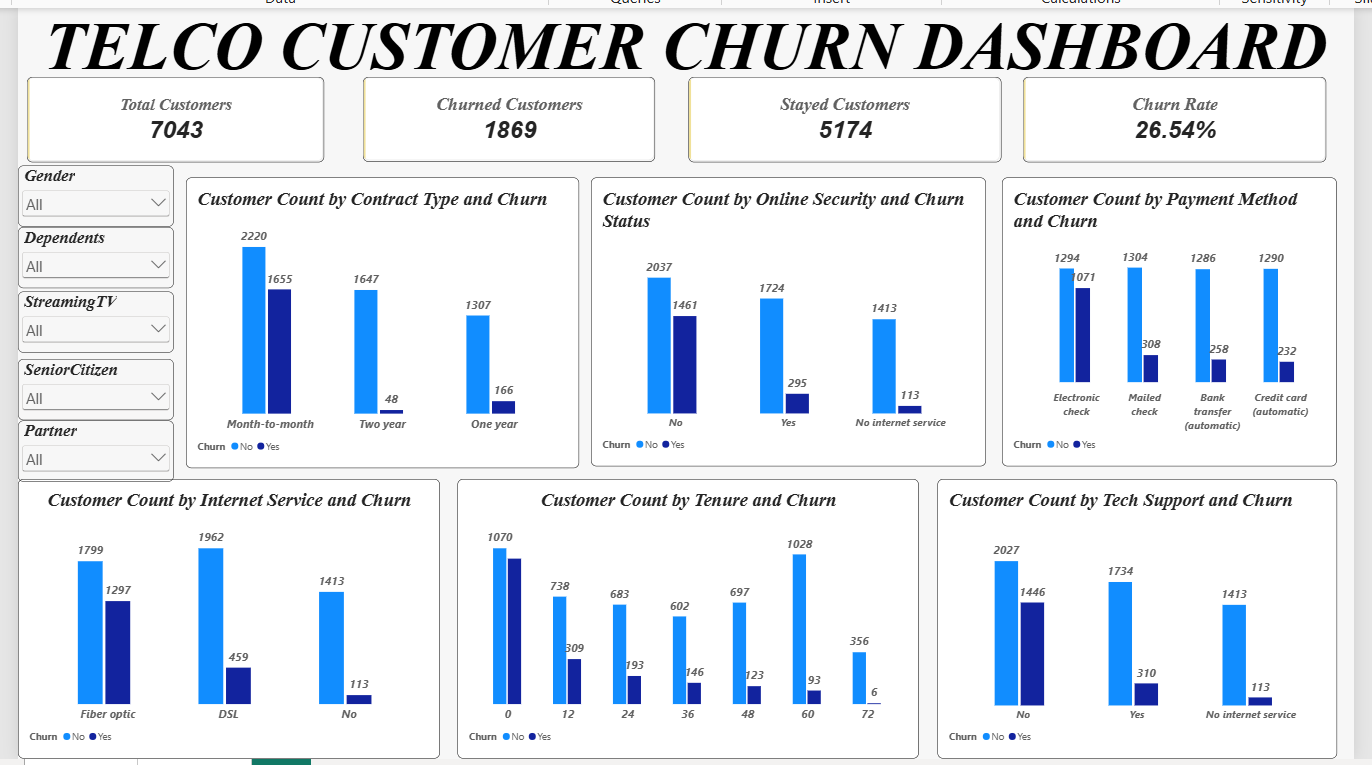

This screenshot's page, from the dashboard's own definition file:
{"tool":"powerbi","page":{"name":"Page 1","canvas":[1920,1080],"ordinal":0},"visuals":[{"type":"cardVisual","title":"Total Customers","fields":{"Data":["Count(Telco_Churn_Cleaned.customerID)"]},"box":[13.6,99.9,427,122.7],"z":0},{"type":"cardVisual","fields":{"Data":["Telco_Churn_Cleaned.Churned Customers"]},"box":[496.1,99.2,420,121.9],"z":1000},{"type":"cardVisual","fields":{"Data":["Telco_Churn_Cleaned.Churn Rate"]},"box":[1444.6,99.9,436.1,122.7],"z":2000},{"type":"cardVisual","title":"Total Customers","fields":{"Data":["Telco_Churn_Cleaned.Stayed Customers"]},"box":[965.3,99.9,449.7,122.7],"z":3000},{"type":"clusteredColumnChart","title":"Customer Count by Contract Type and Churn","fields":{"Category":["Telco_Churn_Cleaned.Contract"],"Series":["Telco_Churn_Cleaned.Churn"],"Y":["CountNonNull(Telco_Churn_Cleaned.customerID)"]},"box":[240.8,243,565.6,417.9],"z":4000},{"type":"clusteredColumnChart","title":"Customer Count by Payment Method and Churn","fields":{"Category":["Telco_Churn_Cleaned.PaymentMethod"],"Series":["Telco_Churn_Cleaned.Churn"],"Y":["CountNonNull(Telco_Churn_Cleaned.customerID)"]},"box":[1415,243,481.5,415.6],"z":5000},{"type":"clusteredColumnChart","title":"Customer Count by Internet Service and Churn","fields":{"Category":["Telco_Churn_Cleaned.InternetService"],"Series":["Telco_Churn_Cleaned.Churn"],"Y":["CountNonNull(Telco_Churn_Cleaned.customerID)"]},"box":[0,676.8,606.4,402],"z":6000},{"type":"clusteredColumnChart","title":"Customer Count by Tech Support and Churn","fields":{"Category":["Telco_Churn_Cleaned.TechSupport"],"Series":["Telco_Churn_Cleaned.Churn"],"Y":["CountNonNull(Telco_Churn_Cleaned.customerID)"]},"box":[1321.9,676.8,574.6,402],"z":8000},{"type":"textbox","box":[0,0,1919.1,124.7],"z":10000},{"type":"clusteredColumnChart","title":"Customer Count by Tenure and Churn","fields":{"Category":["Telco_Churn_Cleaned.tenure (bins)"],"Series":["Telco_Churn_Cleaned.Churn"],"Y":["CountNonNull(Telco_Churn_Cleaned.customerID)"]},"box":[631.4,676.8,663.2,402],"z":11000},{"type":"slicer","fields":{"Values":["Telco_Churn_Cleaned.gender"]},"box":[0,226.8,223.9,87.9],"z":12000},{"type":"slicer","fields":{"Values":["Telco_Churn_Cleaned.Partner"]},"box":[0,592.8,223.9,87.9],"z":13000},{"type":"slicer","fields":{"Values":["Telco_Churn_Cleaned.Dependents"]},"box":[0,314.6,223.9,87.9],"z":14000},{"type":"slicer","fields":{"Values":["Telco_Churn_Cleaned.StreamingTV"]},"box":[0,408.2,223.9,87.9],"z":15000},{"type":"slicer","fields":{"Values":["Telco_Churn_Cleaned.SeniorCitizen"]},"box":[0,504.6,223.9,87.9],"z":16000},{"type":"clusteredColumnChart","title":"Customer Count by Online Security and Churn Status","fields":{"Category":["Telco_Churn_Cleaned.OnlineSecurity"],"Series":["Telco_Churn_Cleaned.Churn"],"Y":["CountNonNull(Telco_Churn_Cleaned.customerID)"]},"box":[824.5,243,567.8,415.6],"z":17000}]}

Visuals, with their boxes on the page's 1920x1080 design canvas (x1, y1, x2, y2). These are canvas units, not pixel positions in the 1372x765 screenshot, which may show the page scaled, cropped or inside an application window:
"Total Customers" cardVisual: x1=14 y1=100 x2=441 y2=223
cardVisual - Telco_Churn_Cleaned.Churned Customers: x1=496 y1=99 x2=916 y2=221
cardVisual - Telco_Churn_Cleaned.Churn Rate: x1=1445 y1=100 x2=1881 y2=223
"Total Customers" cardVisual: x1=965 y1=100 x2=1415 y2=223
"Customer Count by Contract Type and Churn" clusteredColumnChart: x1=241 y1=243 x2=806 y2=661
"Customer Count by Payment Method and Churn" clusteredColumnChart: x1=1415 y1=243 x2=1896 y2=659
"Customer Count by Internet Service and Churn" clusteredColumnChart: x1=0 y1=677 x2=606 y2=1079
"Customer Count by Tech Support and Churn" clusteredColumnChart: x1=1322 y1=677 x2=1896 y2=1079
textbox: x1=0 y1=0 x2=1919 y2=125
"Customer Count by Tenure and Churn" clusteredColumnChart: x1=631 y1=677 x2=1295 y2=1079
slicer - Telco_Churn_Cleaned.gender: x1=0 y1=227 x2=224 y2=315
slicer - Telco_Churn_Cleaned.Partner: x1=0 y1=593 x2=224 y2=681
slicer - Telco_Churn_Cleaned.Dependents: x1=0 y1=315 x2=224 y2=402
slicer - Telco_Churn_Cleaned.StreamingTV: x1=0 y1=408 x2=224 y2=496
slicer - Telco_Churn_Cleaned.SeniorCitizen: x1=0 y1=505 x2=224 y2=592
"Customer Count by Online Security and Churn Status" clusteredColumnChart: x1=824 y1=243 x2=1392 y2=659
